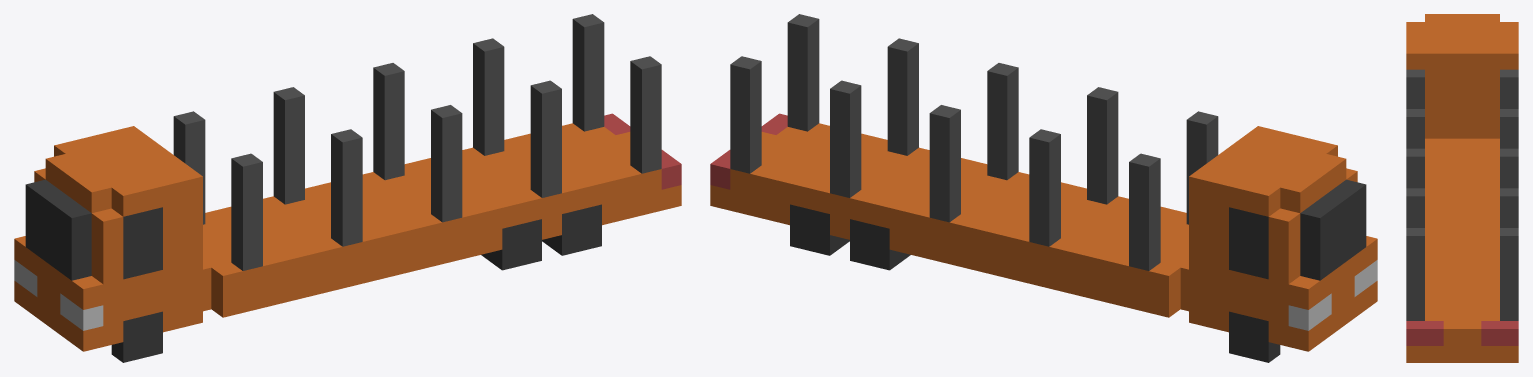
Rendered from truck-v5-orange.gltf.
3 renders of one model, left to right at view 1: azimuth 30°, elevation 25°; view 2: azimuth 150°, elevation 25°; view 3: azimuth 270°, elevation 25°, orthographic. The views are drawn at different scales.
Visible parts, largest first — view 1: model, wheels; view 2: model, wheels; view 3: model.
Boxes of the visible parts, bbox=[...] form: model: bbox=[14, 14, 681, 351]; wheels: bbox=[111, 204, 601, 362]; model: bbox=[710, 14, 1377, 351]; wheels: bbox=[790, 204, 1280, 362]; model: bbox=[1406, 14, 1518, 362].
Bounding box in the file's own units: 3 × 0.8 × 0.6.
Materials: 2 (2 with a texture image).
